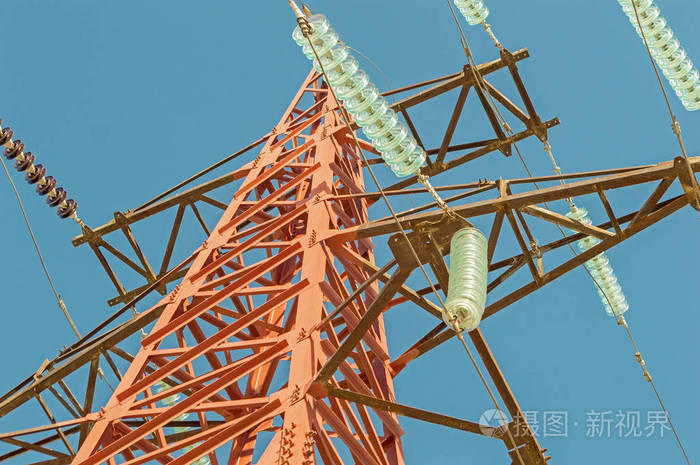insulator: (293, 13, 428, 179), (621, 3, 700, 111), (1, 121, 80, 219), (564, 205, 632, 318), (444, 228, 492, 332), (454, 1, 493, 28)
